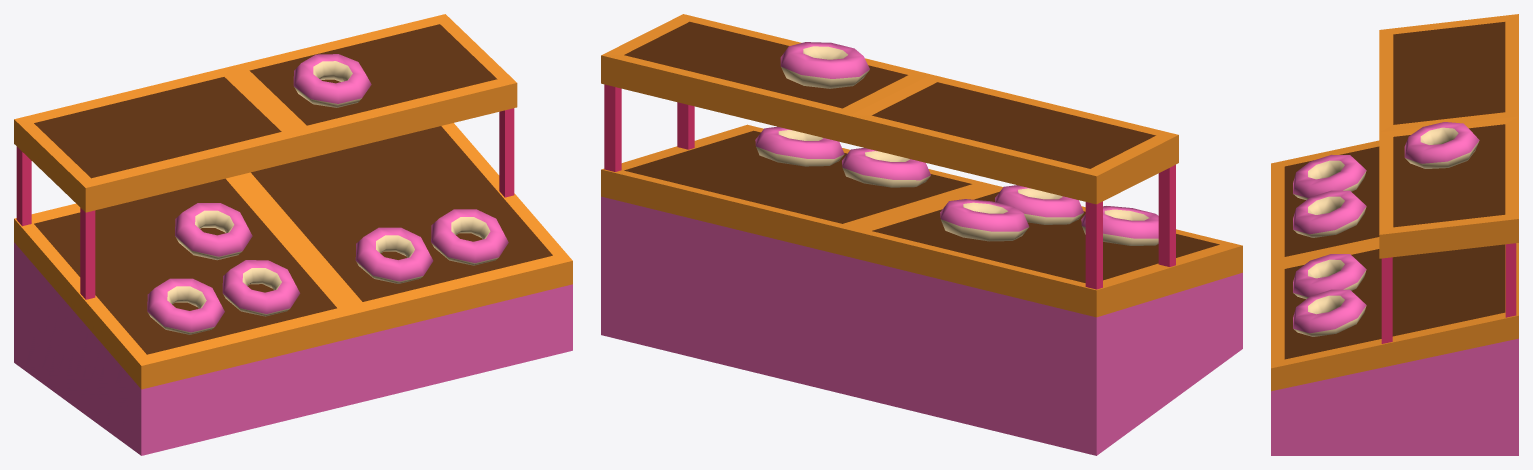
The model's file is Doughnut.fbx.
The picture shows the model from 3 angles, left to right: view 1: azimuth 30°, elevation 25°; view 2: azimuth 150°, elevation 25°; view 3: azimuth 270°, elevation 25°; orthographic projection. The views are drawn at different scales.
Parts seen in each view (by area): view 1: Doughnut; view 2: Doughnut; view 3: Doughnut.
Boxes of the visible parts, x1,y1,x2,y2 form: Doughnut: (14,14,572,455); Doughnut: (601,14,1242,455); Doughnut: (1271,14,1518,455).
Size of the model in its own units: 124 by 71.15 by 63.54.
